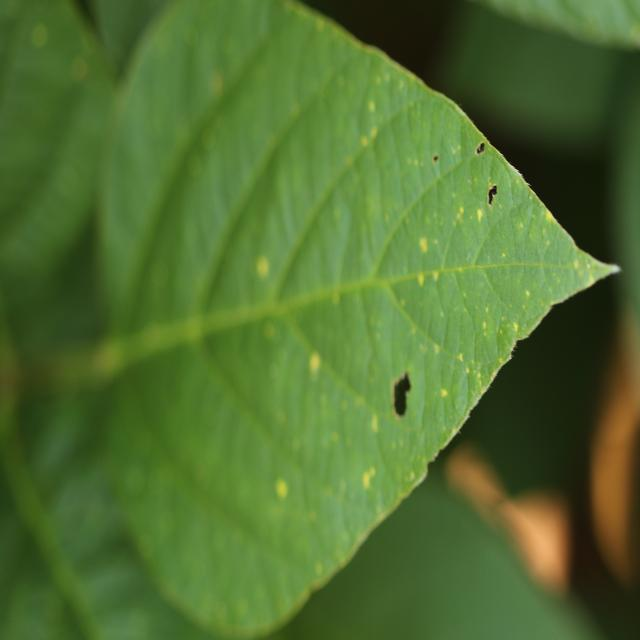Soybean: (0, 0, 617, 640)
downey_mildew: (211, 92, 579, 462), (238, 257, 407, 531), (392, 174, 547, 393), (387, 225, 522, 373), (280, 345, 370, 490), (398, 122, 496, 230), (463, 131, 555, 225), (169, 403, 255, 501), (424, 184, 502, 271), (375, 93, 458, 173), (413, 223, 470, 284), (471, 138, 502, 214), (140, 250, 175, 312), (71, 57, 89, 80), (31, 24, 48, 47), (486, 178, 498, 206), (402, 465, 416, 488), (210, 74, 224, 96), (235, 597, 249, 618), (187, 155, 201, 176), (362, 467, 375, 488), (275, 479, 288, 499), (215, 599, 227, 620), (308, 353, 321, 372), (203, 130, 215, 150), (264, 324, 276, 340), (255, 260, 265, 277), (333, 205, 342, 223), (419, 237, 428, 253), (476, 208, 484, 222), (339, 479, 347, 493), (315, 562, 323, 576), (374, 74, 382, 87), (309, 509, 317, 522), (361, 134, 369, 146), (331, 431, 339, 443), (369, 466, 376, 479), (332, 292, 339, 305), (545, 210, 553, 221), (370, 126, 377, 138), (368, 100, 375, 112), (372, 416, 378, 430), (418, 273, 424, 286), (456, 212, 463, 223), (441, 388, 448, 397), (574, 259, 580, 269), (420, 343, 426, 353), (409, 471, 415, 481), (434, 271, 439, 281), (453, 145, 459, 153), (531, 213, 536, 222), (435, 345, 440, 354), (414, 158, 419, 167), (400, 298, 405, 307), (519, 221, 524, 229), (525, 290, 530, 298), (459, 206, 464, 214), (434, 238, 439, 245), (546, 239, 550, 247), (501, 252, 506, 258)
